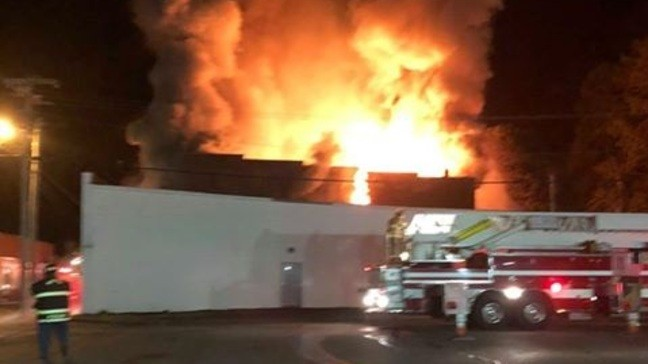Fire: (246, 11, 368, 161), (374, 10, 475, 174), (153, 17, 242, 146)
